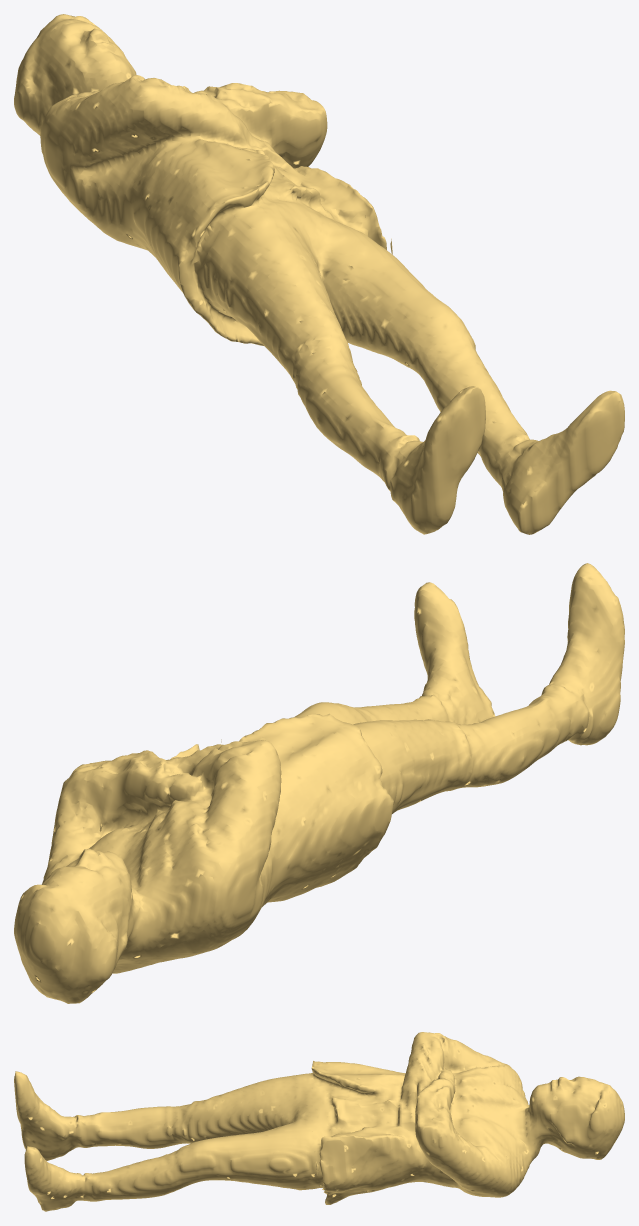
The model's file is asset.glb.
3 views of the same model, one above another, from view 1: azimuth 30°, elevation 25°; view 2: azimuth 150°, elevation 25°; view 3: azimuth 270°, elevation 25° (orthographic). The views are drawn at different scales.
Parts seen in each view (by area): view 1: model; view 2: model; view 3: model.
Part boxes in pixels (box(x1,y1,x2,y2)): model: box(14, 14, 624, 534); model: box(14, 563, 624, 1003); model: box(14, 1032, 624, 1211).
Size of the model in its own units: 0.1076 by 0.1075 by 0.3886.
